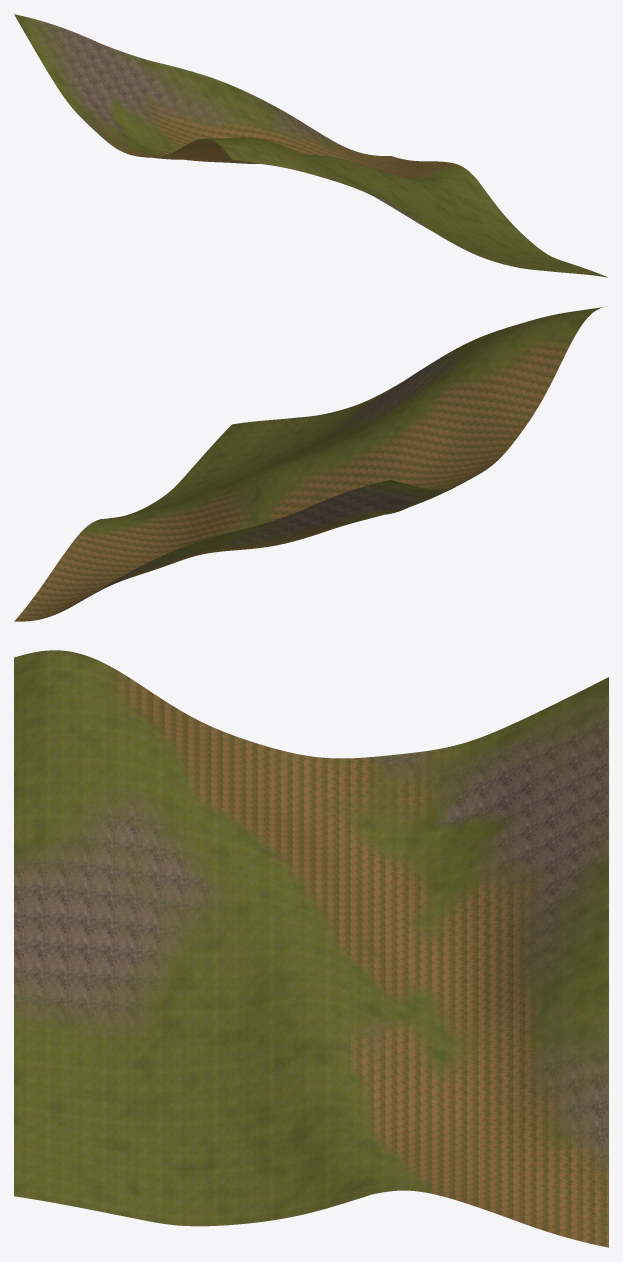
File: terrain.glb
The picture shows the model from 3 angles, top to bottom: view 1: azimuth 30°, elevation 25°; view 2: azimuth 150°, elevation 25°; view 3: azimuth 270°, elevation 25°; orthographic projection. The views are drawn at different scales.
Visible parts, largest first — view 1: terrain; view 2: terrain; view 3: terrain.
Boxes of the visible parts, x1,y1,x2,y2 form: terrain: (14,14,607,277); terrain: (14,306,607,621); terrain: (14,650,608,1247).
Bounding box in the file's own units: 300 × 192 × 300.
1 material, 1 textured.
